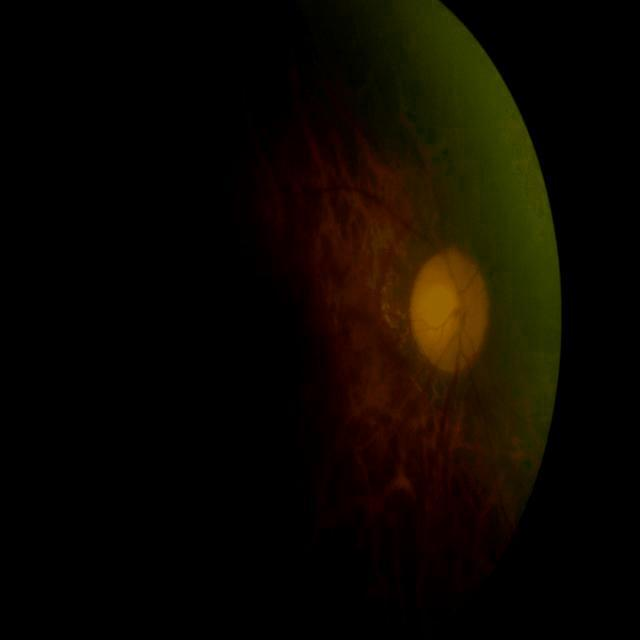cup: (427, 280, 469, 354)
disk: (409, 247, 492, 374)
